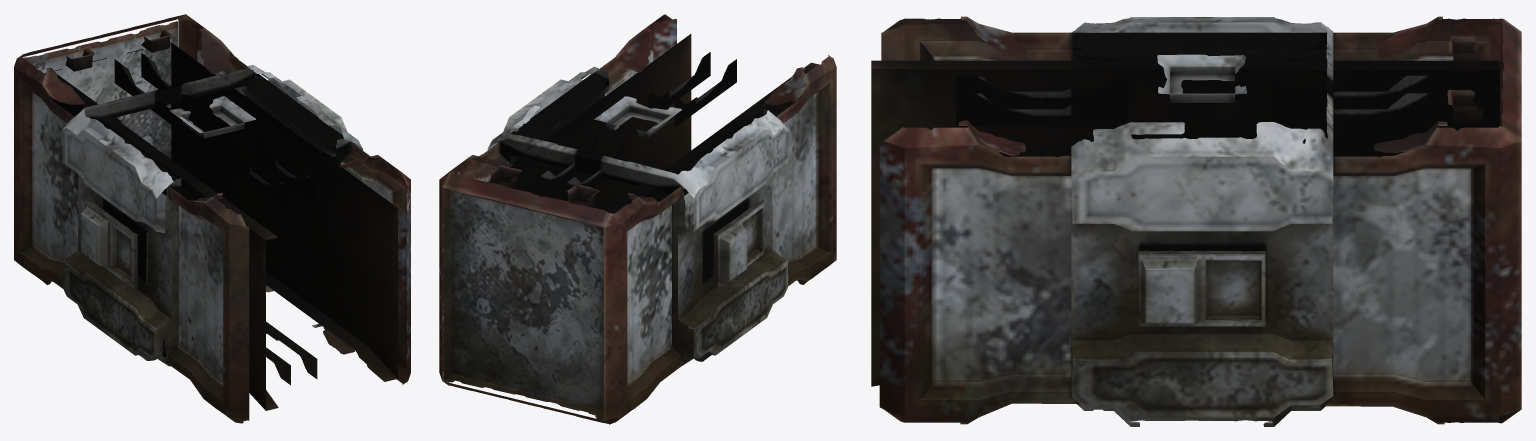
File: strct_WH_A_shipcon.fbx
3 views of the same model, side by side, from view 1: azimuth 30°, elevation 25°; view 2: azimuth 150°, elevation 25°; view 3: azimuth 270°, elevation 25° (orthographic). The views are drawn at different scales.
Visible parts, largest first — view 1: polySurface210; view 2: polySurface210; view 3: polySurface210.
Part boxes in pixels (x1,y1,x2,y2): polySurface210: [14, 14, 410, 423]; polySurface210: [439, 14, 836, 424]; polySurface210: [871, 16, 1521, 426].
Bounding box in the file's own units: 138 × 136 × 254.
